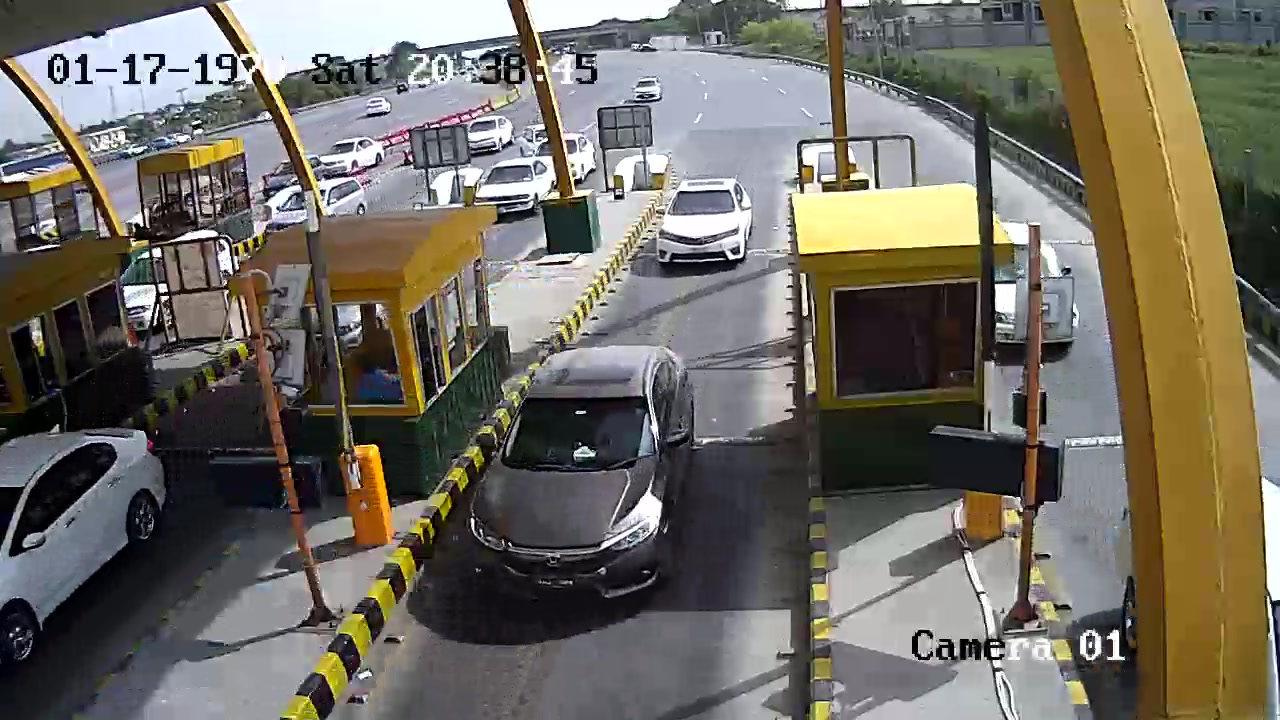F1: (467, 340, 715, 632)
